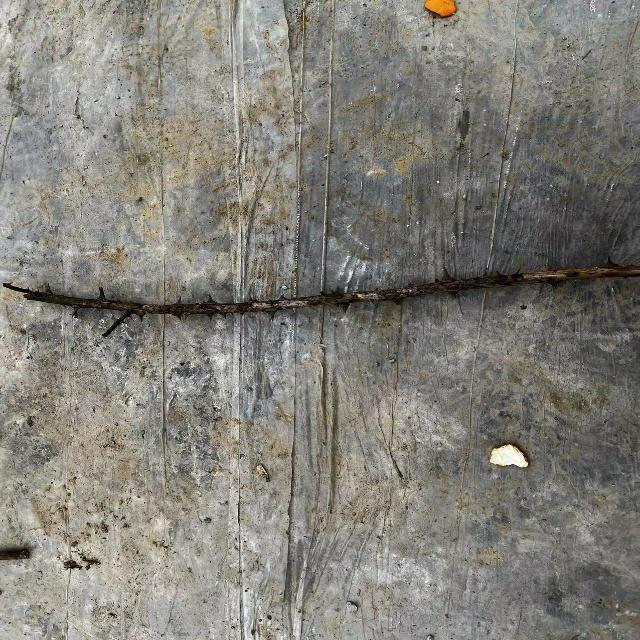branch: (8, 265, 640, 320)
